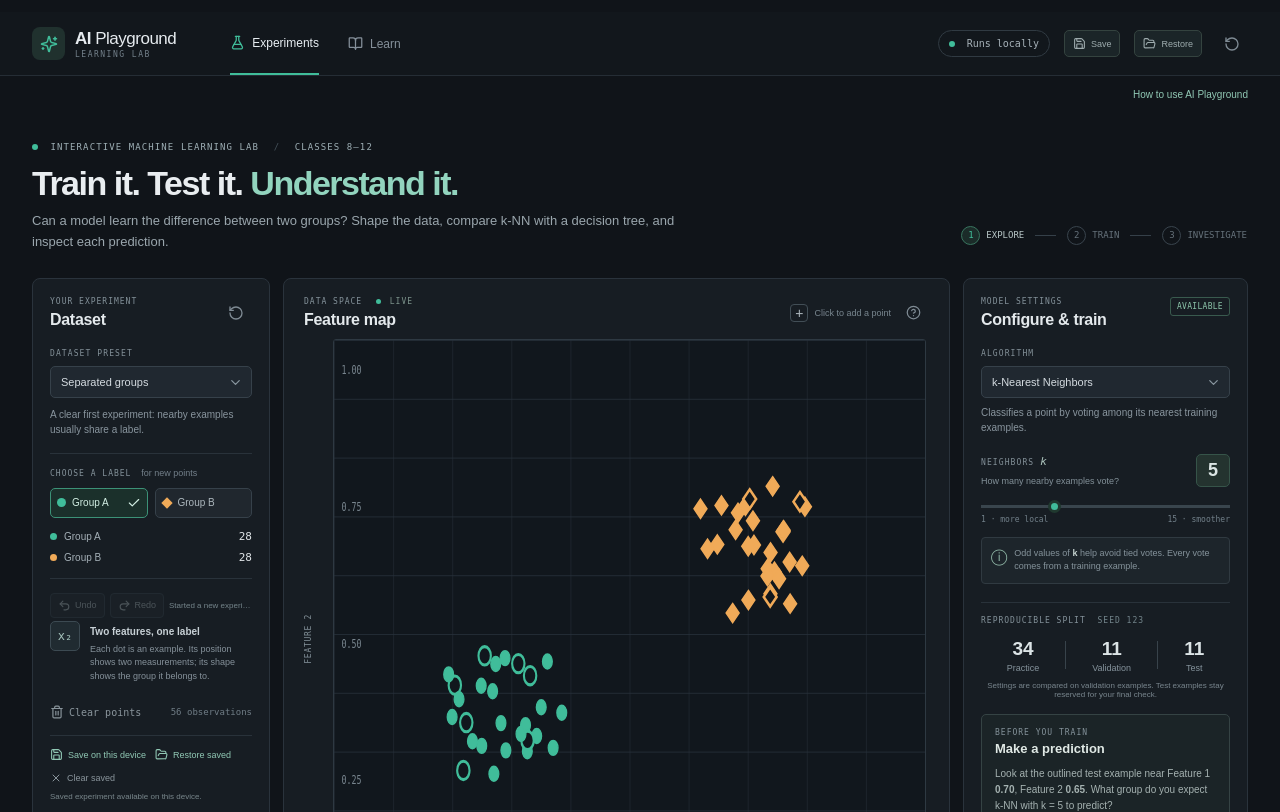
Test: AI Playground workspace › switches dataset presets and explains the chosen data
Step 1. Select "Noisy labels" in the dropdown labelled "DATASET PRESET" → (151, 382), box [50, 366, 252, 398]
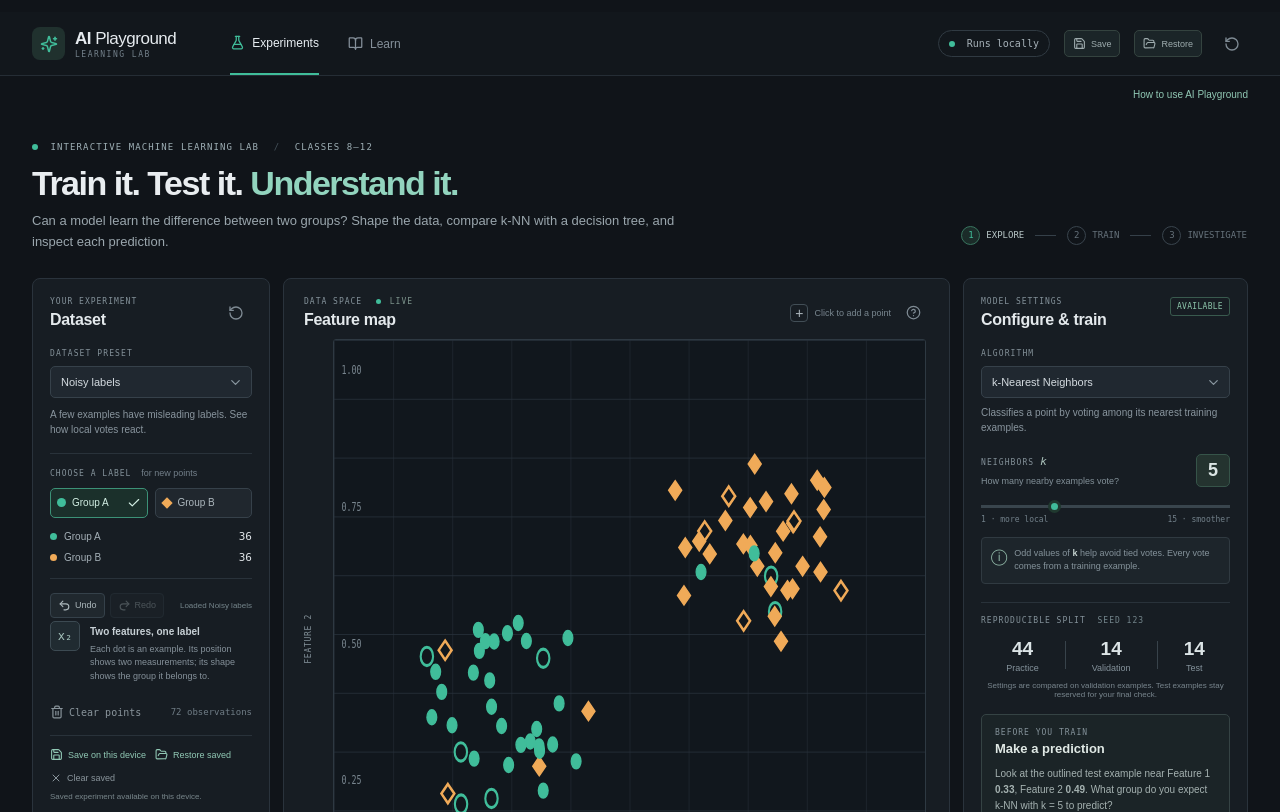
Expected: the text "misleading labels" is shown, [50, 409, 247, 435]
Expected: the text "72 observations" is shown, [171, 707, 252, 717]
